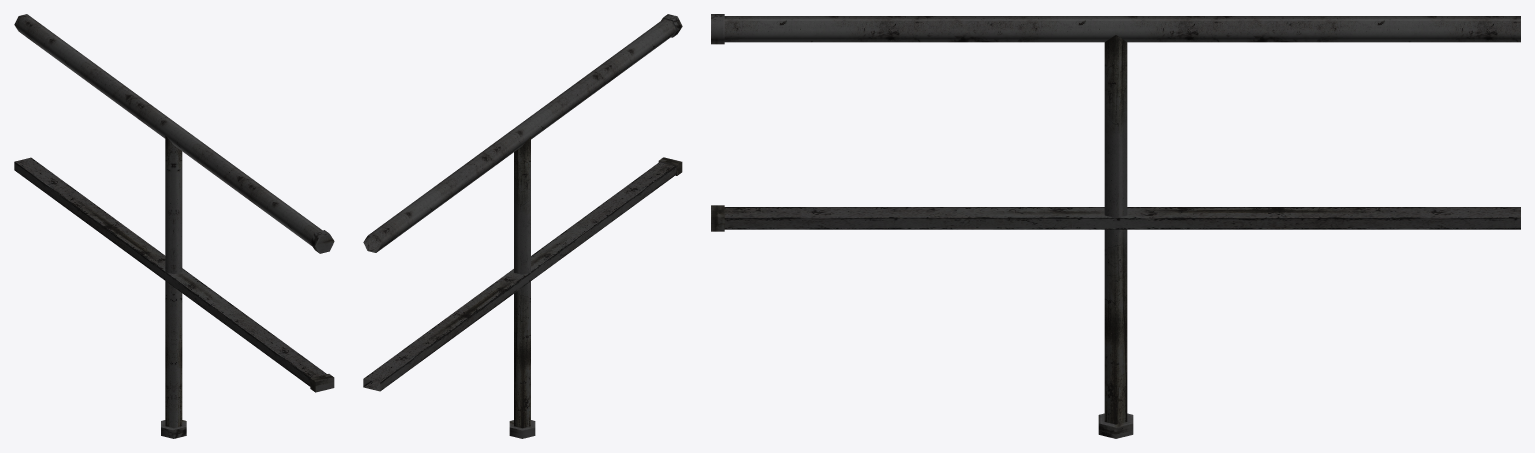
Rendered from cs_handrail_64_double_lod0.glb.
3 views of the same model, side by side, from view 1: azimuth 30°, elevation 25°; view 2: azimuth 150°, elevation 25°; view 3: azimuth 270°, elevation 25° (orthographic). The views are drawn at different scales.
Parts seen in each view (by area): view 1: surf0; view 2: surf0; view 3: surf0.
Part boxes in pixels (box(x1,y1,x2,y2)): surf0: box(14, 14, 334, 438); surf0: box(363, 14, 682, 438); surf0: box(711, 14, 1520, 438).
Bounding box in the file's own units: 3.16 × 36.04 × 64.
